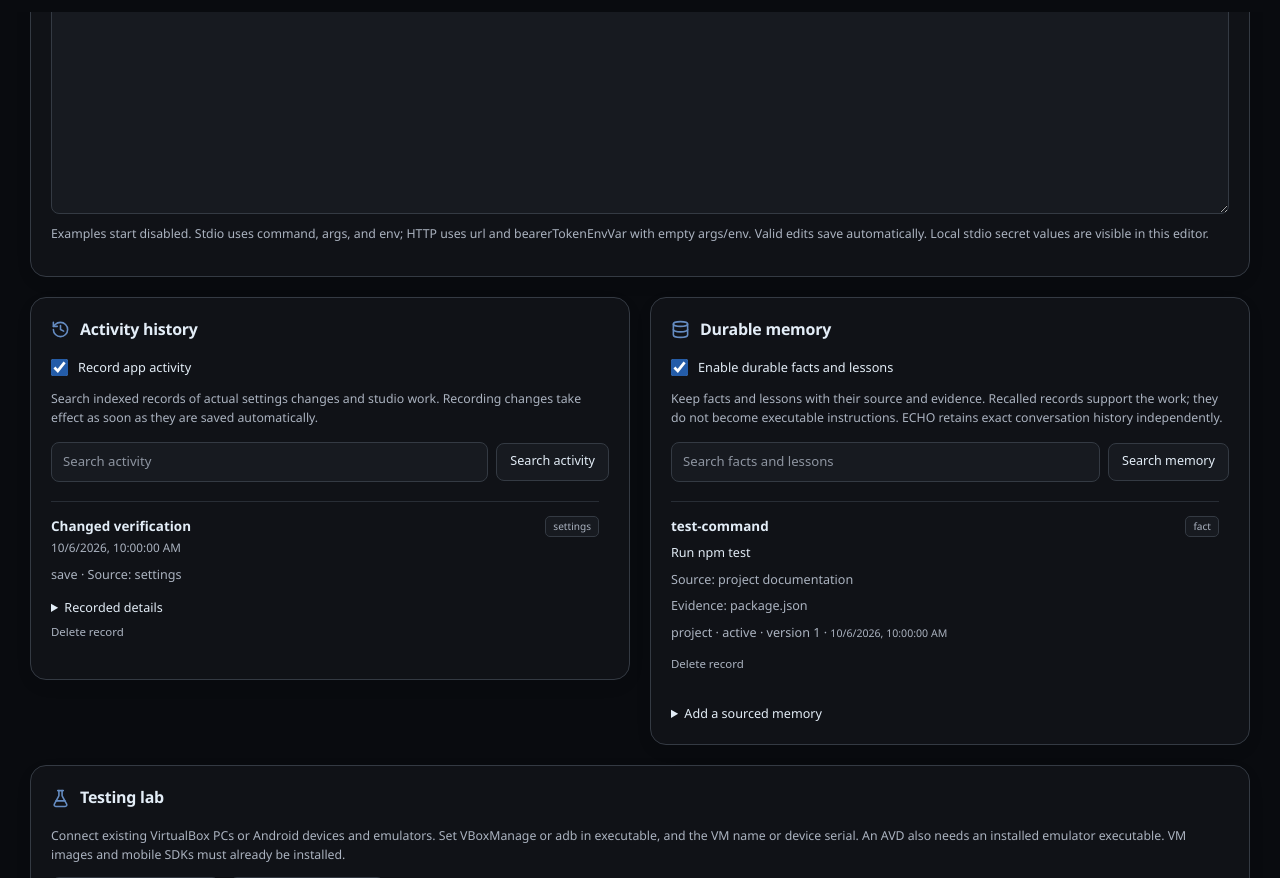
Test: AgentPlatformSettings › preserves the active evidence query when settings change through another control
(page scrolled)
expect the text "Run npm test" is shown: met, box top-left (671, 544), bottom-right (750, 561)
Type "project evidence" into the search field named "Search durable memory".
click(886, 462); type("project evidence")  # box top-left (671, 442), bottom-right (1100, 482)
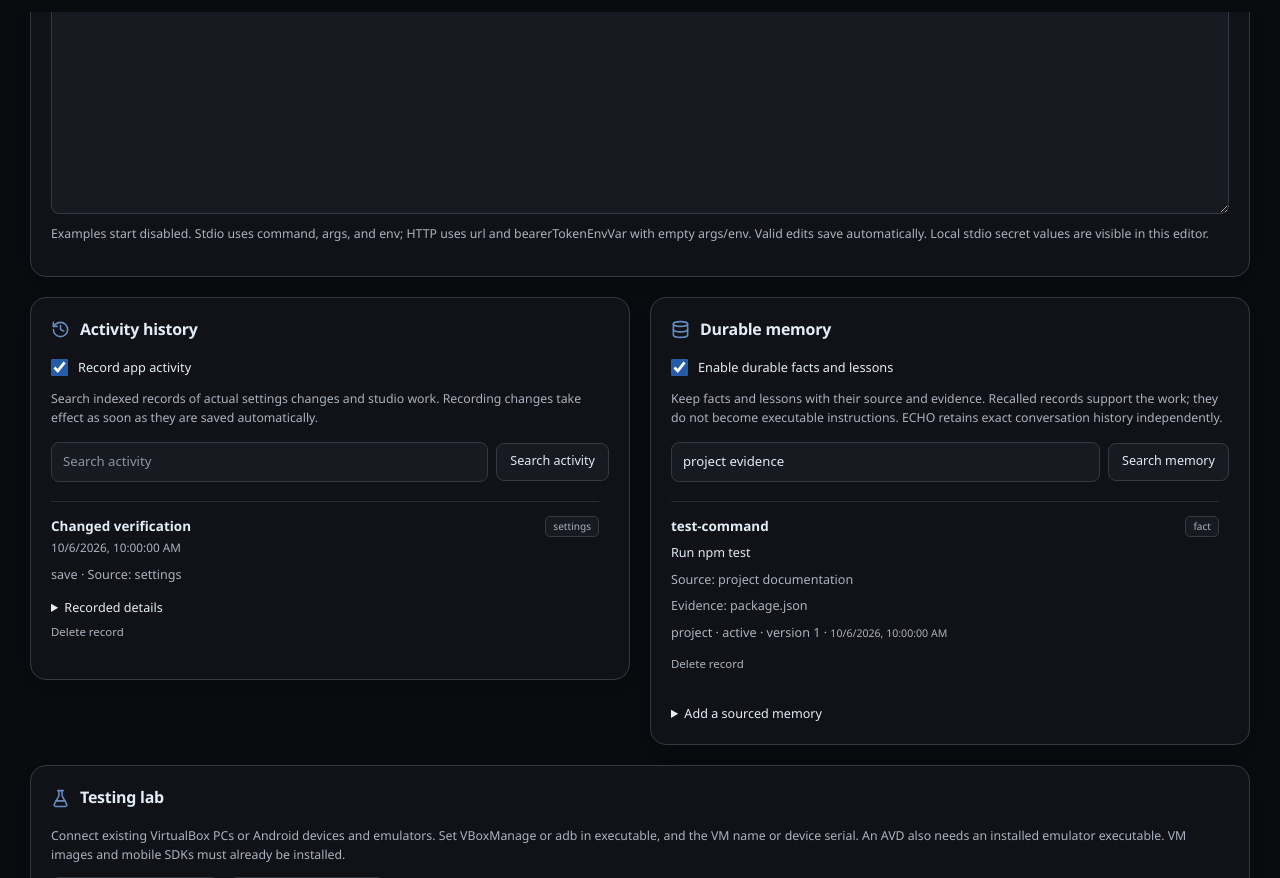
Click the button "Search memory".
click(1168, 462)  # box top-left (1108, 443), bottom-right (1229, 481)
(page scrolled)
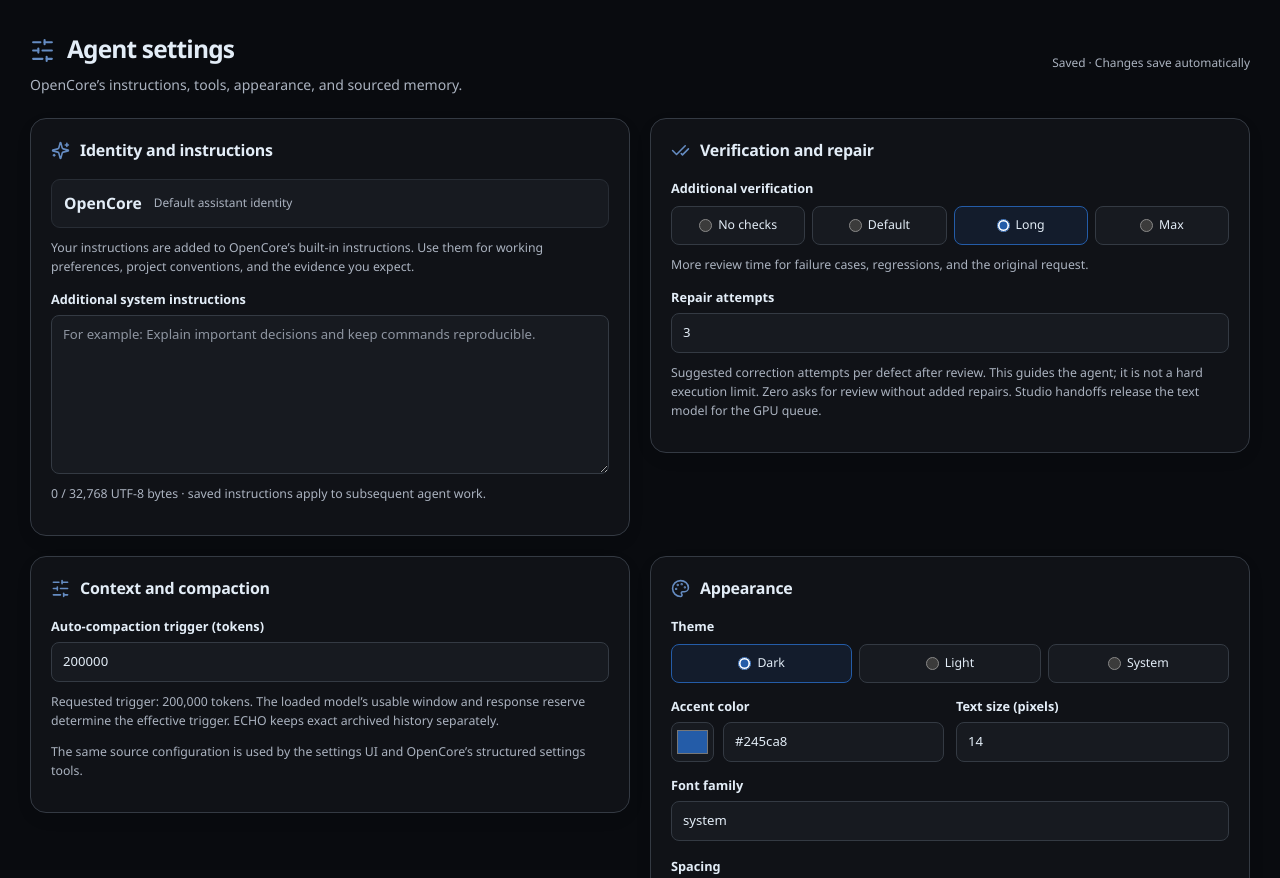
expect the radio button labelled "Long" is checked: met, box top-left (997, 219), bottom-right (1010, 232)
